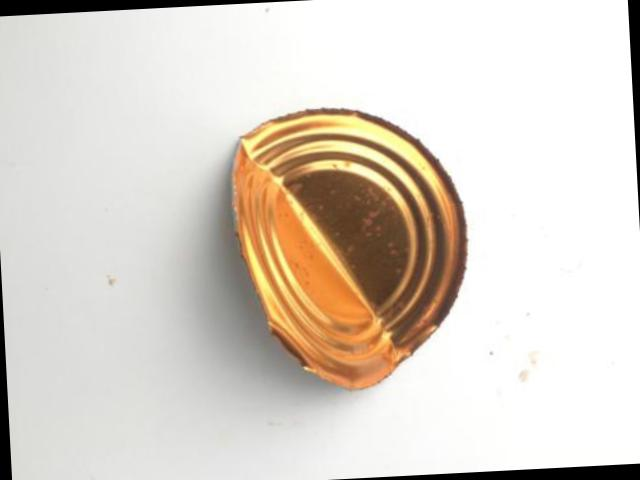metal: (236, 112, 468, 391)
